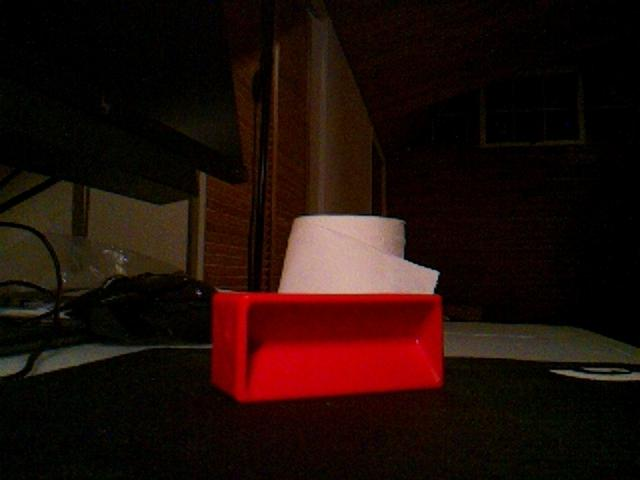red: (210, 290, 446, 405)
